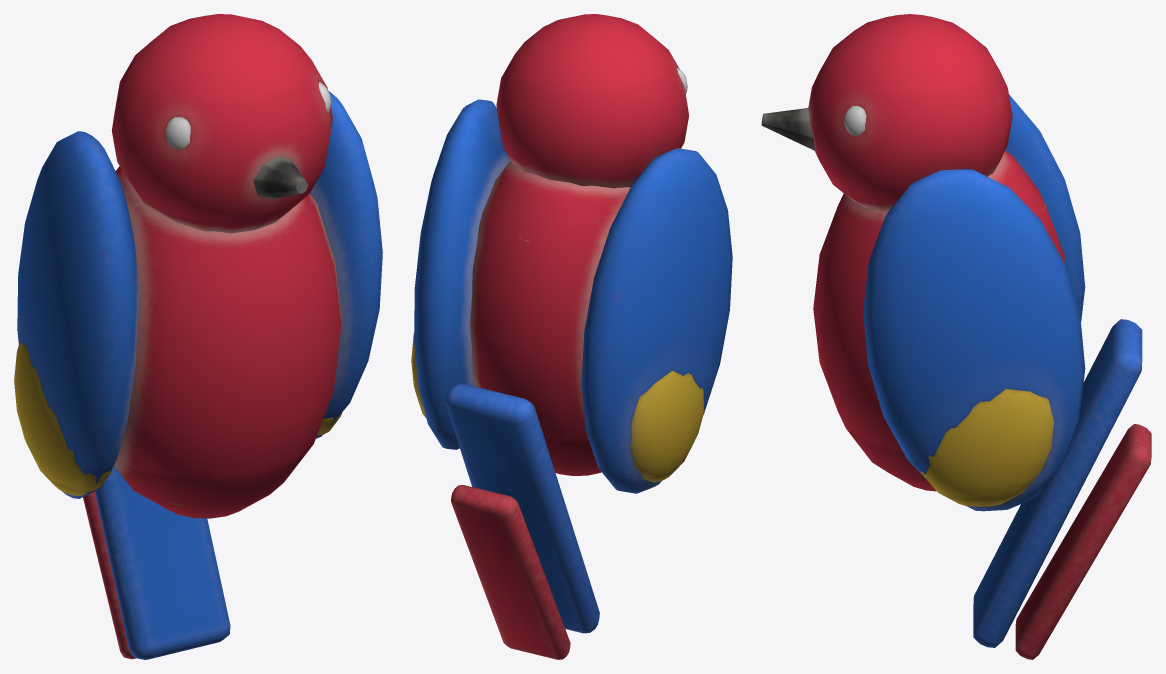
The model's file is tf_parrot.glb.
3 renders of one model, left to right at view 1: azimuth 30°, elevation 25°; view 2: azimuth 150°, elevation 25°; view 3: azimuth 270°, elevation 25°, orthographic. The views are drawn at different scales.
Parts seen in each view (by area): view 1: tf_parrot; view 2: tf_parrot; view 3: tf_parrot.
Boxes of the visible parts, x1,y1,x2,y2 form: tf_parrot: [14, 14, 382, 659]; tf_parrot: [411, 14, 732, 659]; tf_parrot: [761, 14, 1151, 659].
Size of the model in its own units: 0.5096 by 1.07 by 0.6061.
5 materials, 5 textured.
